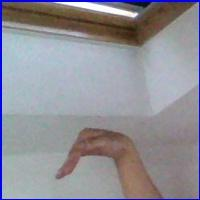del: (51, 124, 141, 186)
